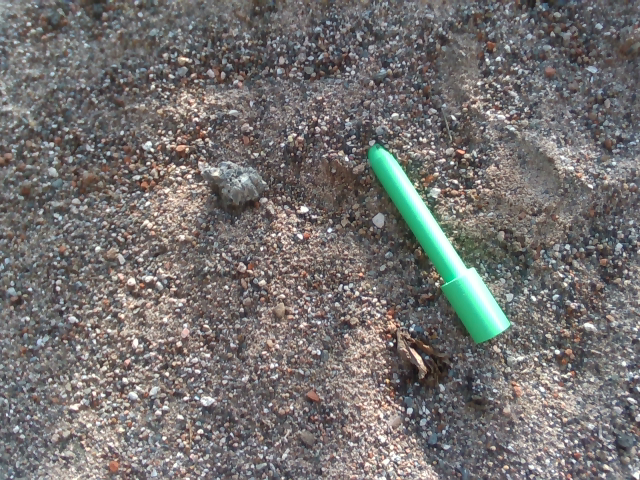Probe: (353, 118, 515, 354)
